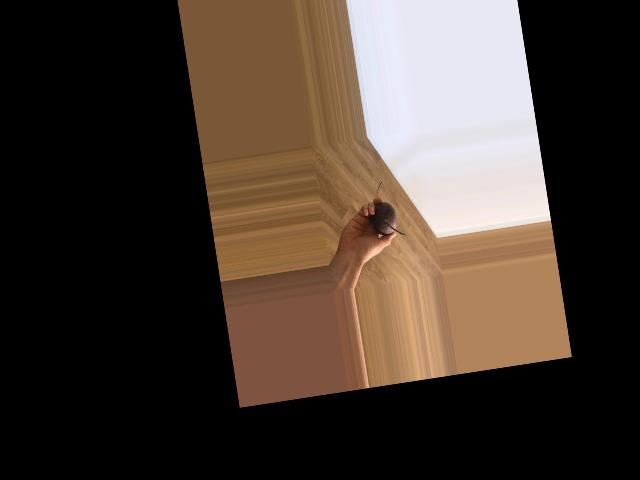beet: (365, 179, 405, 239)
